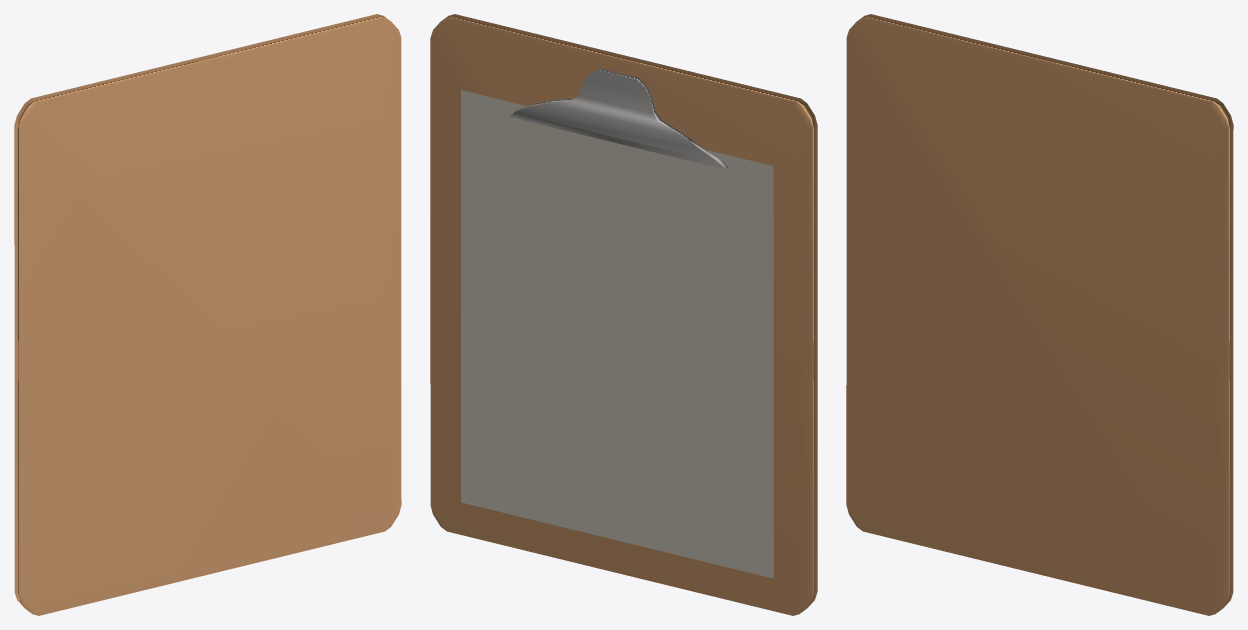
Rendered from Clipboard.fbx.
The picture shows the model from 3 angles, left to right: view 1: azimuth 30°, elevation 25°; view 2: azimuth 150°, elevation 25°; view 3: azimuth 330°, elevation 25°; orthographic projection.
Parts seen in each view (by area): view 1: Cube; view 2: Cube; view 3: Cube.
Part boxes in pixels (<box>): Cube: <box>14,14,401,615</box>; Cube: <box>430,14,817,615</box>; Cube: <box>846,14,1233,615</box>.
Size of the model in its own units: 484 by 624 by 33.86.
